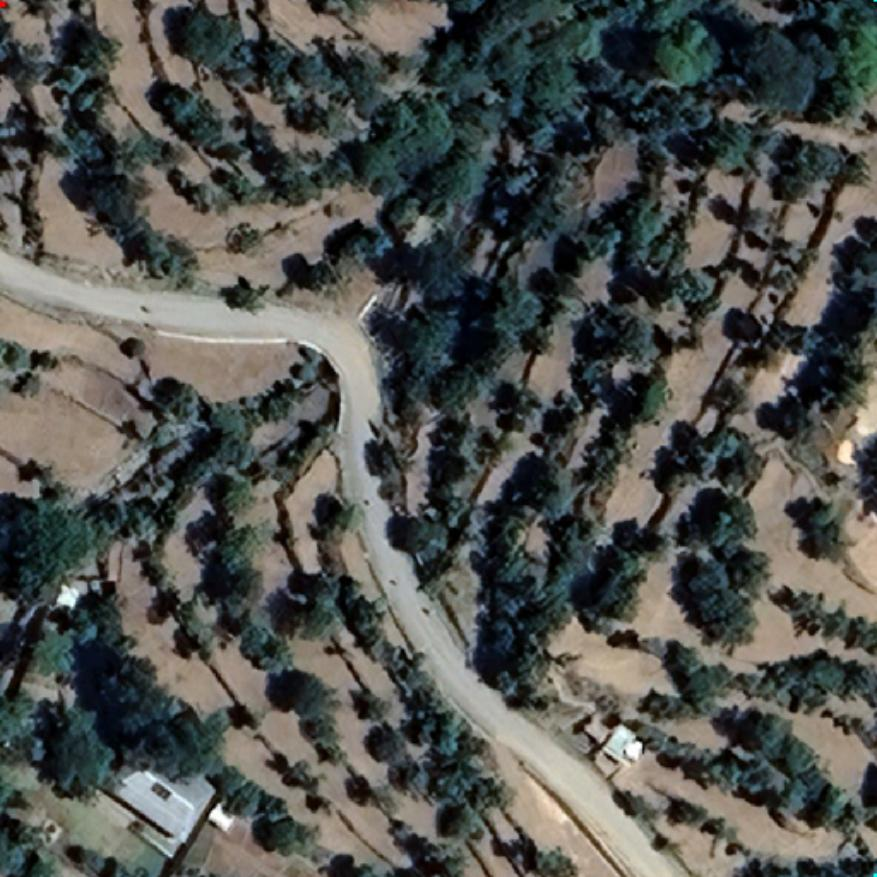Solarpanel: (146, 778, 173, 806)
